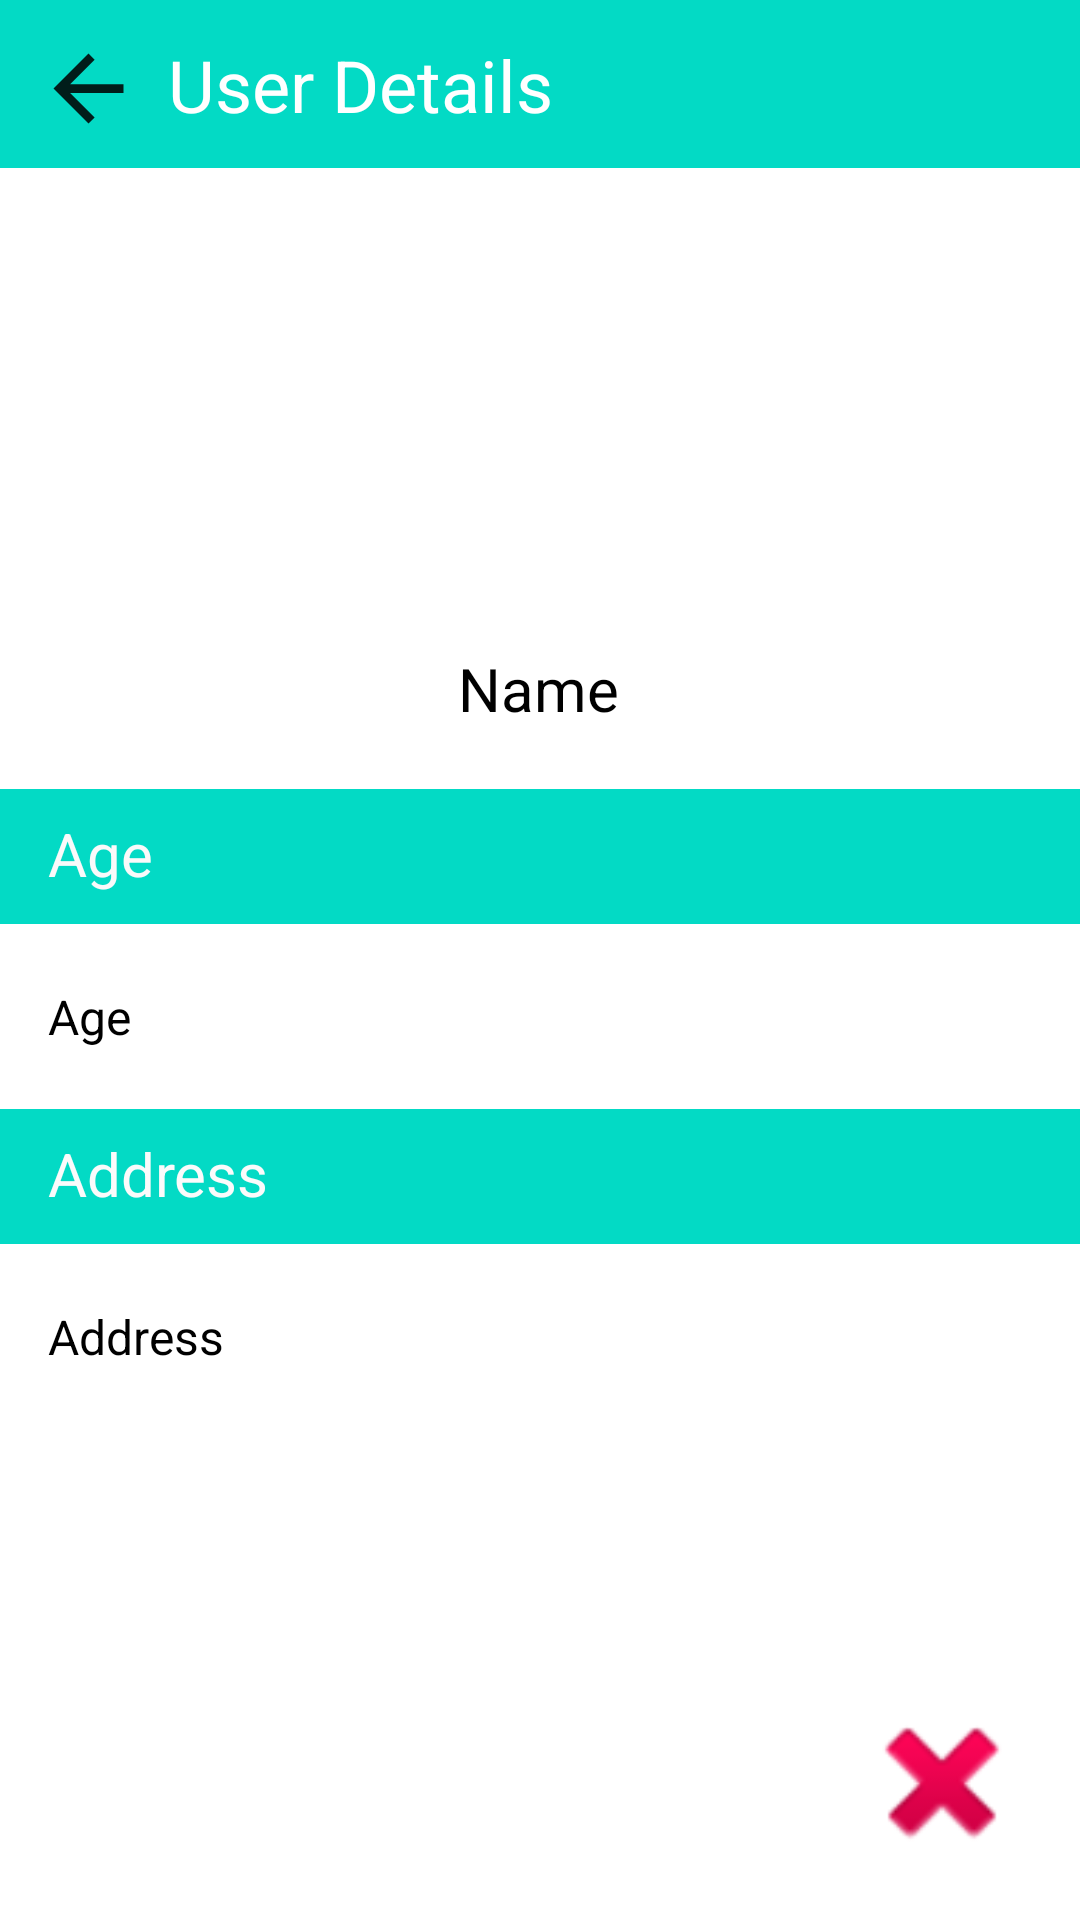

Named icons in this screenshot (1080*1920) and their bounding boxes, bbox(x1, y1, x2, y2):
delete: bbox(885, 1727, 999, 1838)
